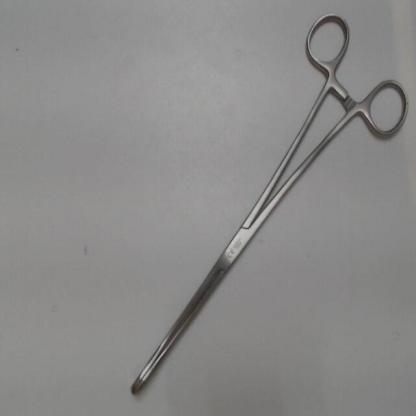Sponge Forceps: (121, 7, 416, 406)
